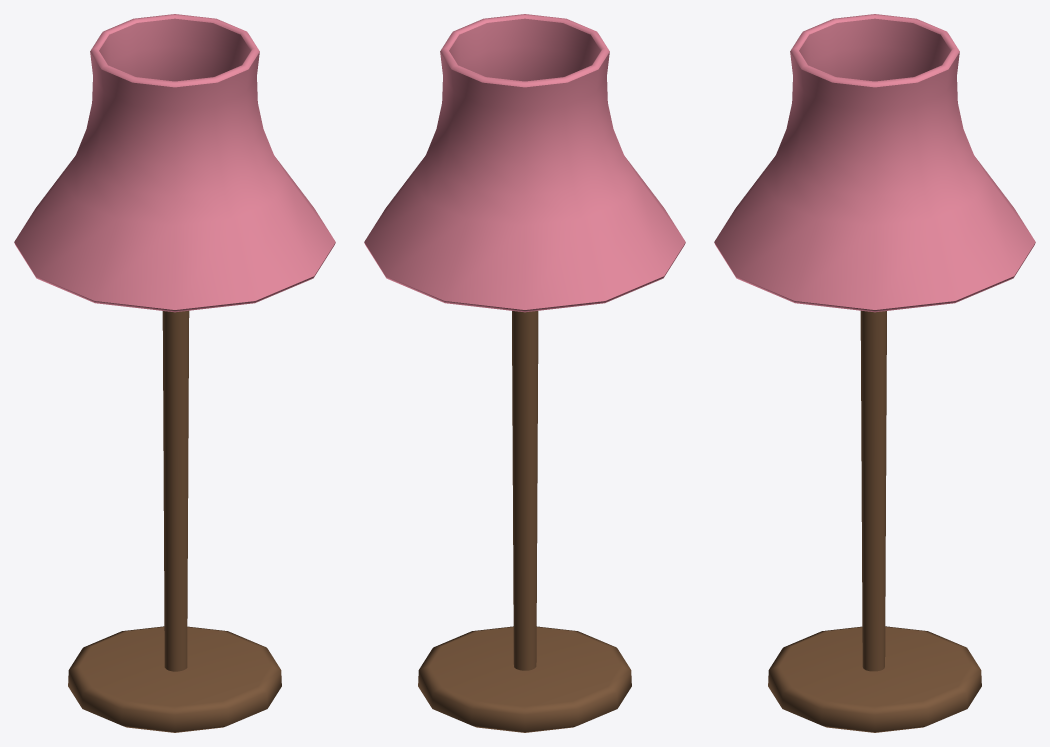
The model's file is Lamp_12.glb.
3 renders of one model, left to right at view 1: azimuth 30°, elevation 25°; view 2: azimuth 150°, elevation 25°; view 3: azimuth 270°, elevation 25°, orthographic.
Visible parts, largest first — view 1: Lamp_12; view 2: Lamp_12; view 3: Lamp_12.
Part boxes in pixels (box(x1,y1,x2,y2)): Lamp_12: box(14, 14, 335, 732); Lamp_12: box(364, 14, 685, 732); Lamp_12: box(714, 14, 1035, 732).
Bounding box in the file's own units: 0.8185 × 1.81 × 0.8185.
2 materials, 1 textured.
